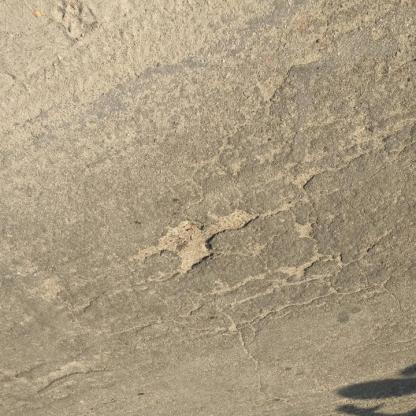pothole: (132, 209, 257, 279)
